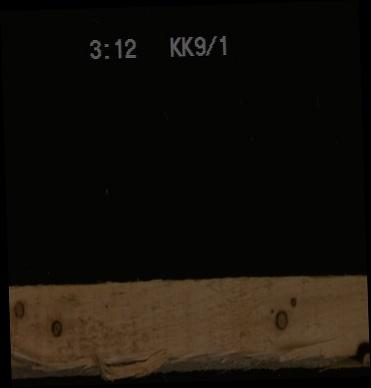dry_knot: (274, 308, 288, 330), (50, 317, 62, 337), (12, 298, 24, 317), (288, 295, 296, 307)
edge_knot: (345, 339, 369, 364)
